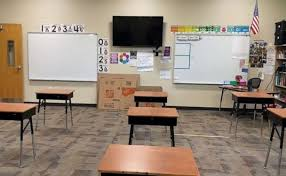desk: (107, 140, 201, 175), (0, 101, 37, 164), (230, 90, 278, 136), (128, 105, 178, 144), (35, 87, 73, 128), (134, 90, 167, 108)
